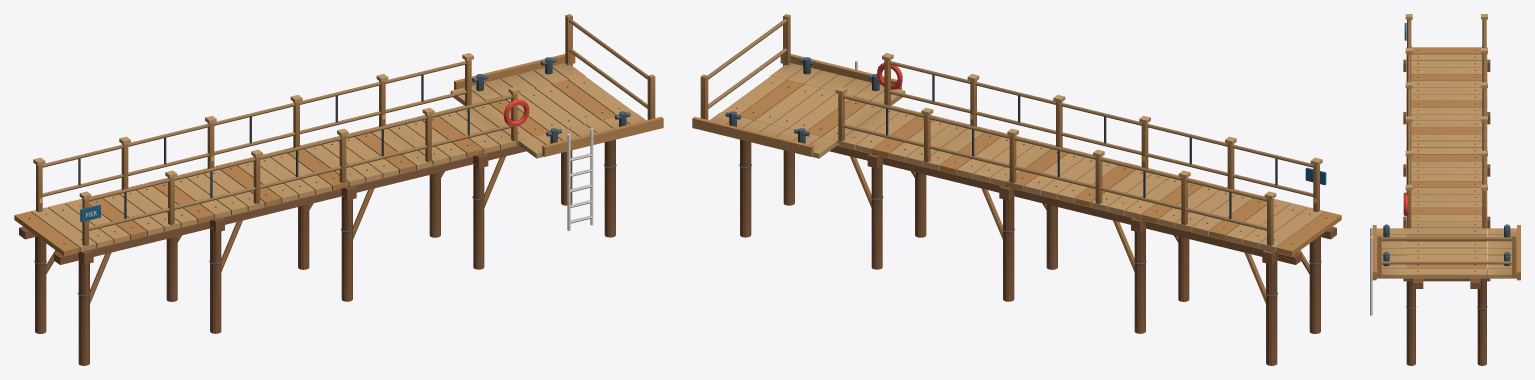
File: pier.glb
3 views of the same model, side by side, from view 1: azimuth 30°, elevation 25°; view 2: azimuth 150°, elevation 25°; view 3: azimuth 270°, elevation 25° (orthographic). The views are drawn at different scales.
Parts seen in each view (by area): view 1: planed deck board.001, planed deck board, continuous bearer, deck countersunk bolt, ladder rail; view 2: planed deck board.001, planed deck board, continuous bearer, deck countersunk bolt; view 3: planed deck board.001, planed deck board, continuous bearer, deck countersunk bolt, ladder rail.
Boxes of the visible parts, bbox=[...] form: planed deck board.001: bbox=[31, 19, 647, 251]; planed deck board: bbox=[14, 14, 663, 303]; continuous bearer: bbox=[19, 116, 615, 365]; deck countersunk bolt: bbox=[28, 57, 630, 296]; ladder rail: bbox=[86, 128, 593, 230]; planed deck board.001: bbox=[708, 19, 1324, 251]; planed deck board: bbox=[692, 14, 1341, 303]; continuous bearer: bbox=[740, 116, 1336, 365]; deck countersunk bolt: bbox=[725, 57, 1327, 296]; planed deck board.001: bbox=[1376, 14, 1516, 278]; planed deck board: bbox=[1372, 19, 1520, 280]; continuous bearer: bbox=[1403, 59, 1490, 365]; deck countersunk bolt: bbox=[1383, 50, 1510, 309]; ladder rail: bbox=[1370, 227, 1372, 315].
Size of the model in its own units: 10.13 by 2.85 by 2.8.
